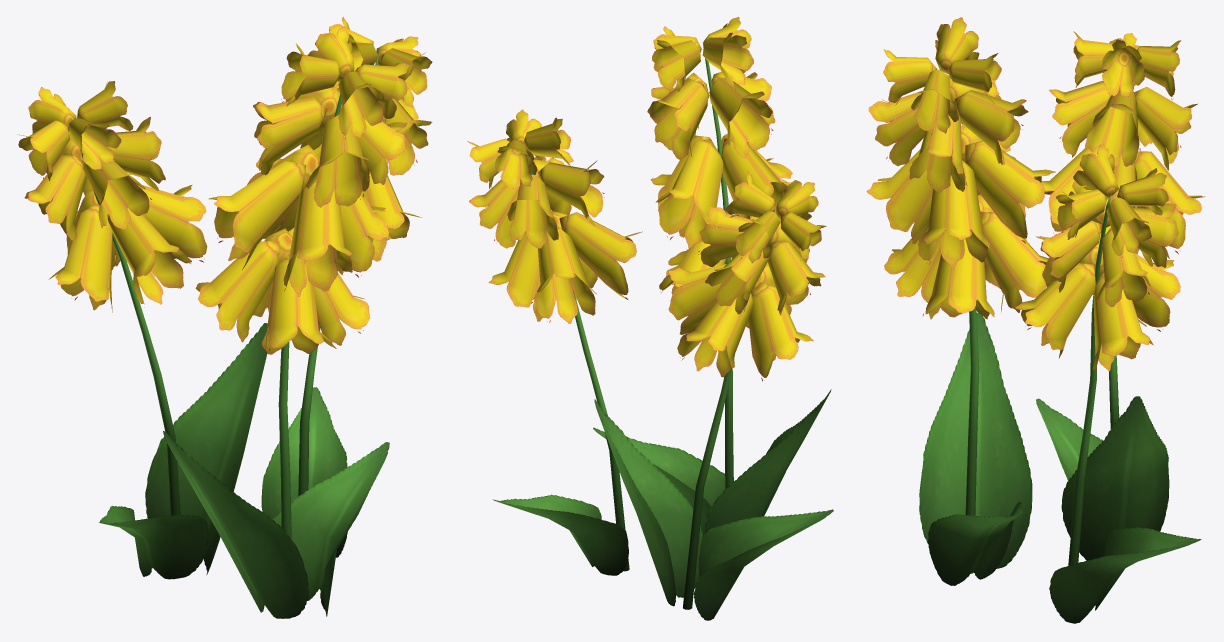
Rendered from flower_4_group.glb.
3 renders of one model, left to right at view 1: azimuth 30°, elevation 25°; view 2: azimuth 150°, elevation 25°; view 3: azimuth 270°, elevation 25°, orthographic. The views are drawn at different scales.
Parts seen in each view (by area): view 1: Flower_4_Group; view 2: Flower_4_Group; view 3: Flower_4_Group.
Boxes of the visible parts, x1=… form: Flower_4_Group: x1=17, y1=17, x2=432, y2=618; Flower_4_Group: x1=467, y1=17, x2=833, y2=620; Flower_4_Group: x1=866, y1=17, x2=1205, y2=623.
Size of the model in its own units: 1.78 by 2.49 by 1.37.
Materials: 2 (2 with a texture image).
